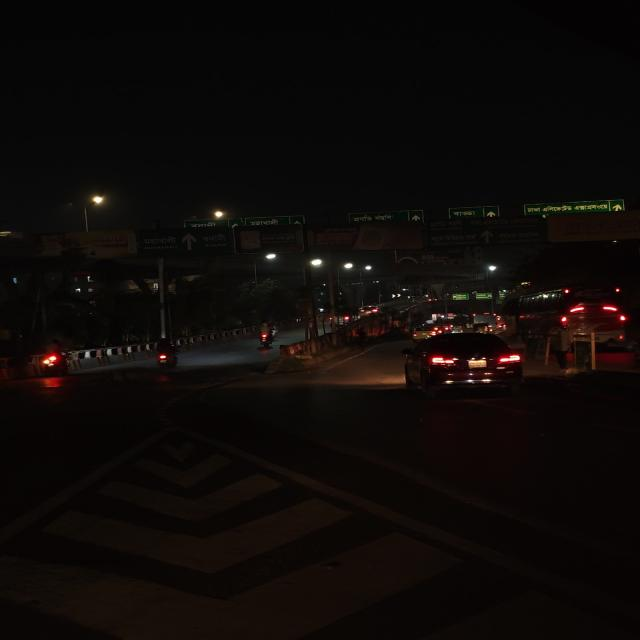bus: (502, 288, 635, 336)
car: (399, 332, 526, 394)
motorcycle: (31, 339, 74, 376), (150, 337, 185, 371), (254, 321, 279, 349)
pedestrian: (543, 325, 574, 369)
